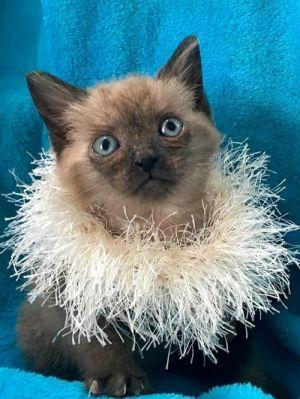siamese: (24, 21, 227, 223)
